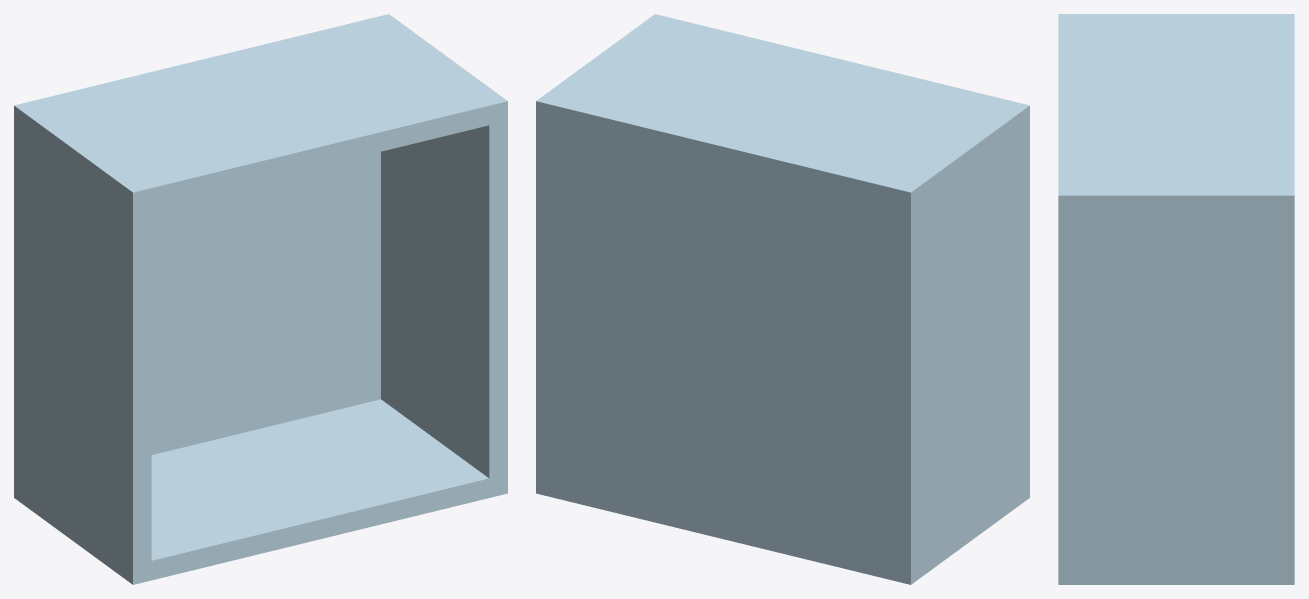
Rendered from map.gltf.
The picture shows the model from 3 angles, left to right: view 1: azimuth 30°, elevation 25°; view 2: azimuth 150°, elevation 25°; view 3: azimuth 270°, elevation 25°; orthographic projection.
Parts seen in each view (by area): view 1: Part 1; view 2: Part 1; view 3: Part 1.
Boxes of the visible parts, x1,y1,x2,y2 form: Part 1: [14, 14, 507, 584]; Part 1: [536, 14, 1029, 584]; Part 1: [1058, 14, 1294, 584].
Bounding box in the file's own units: 2.54 × 2.54 × 1.4.
